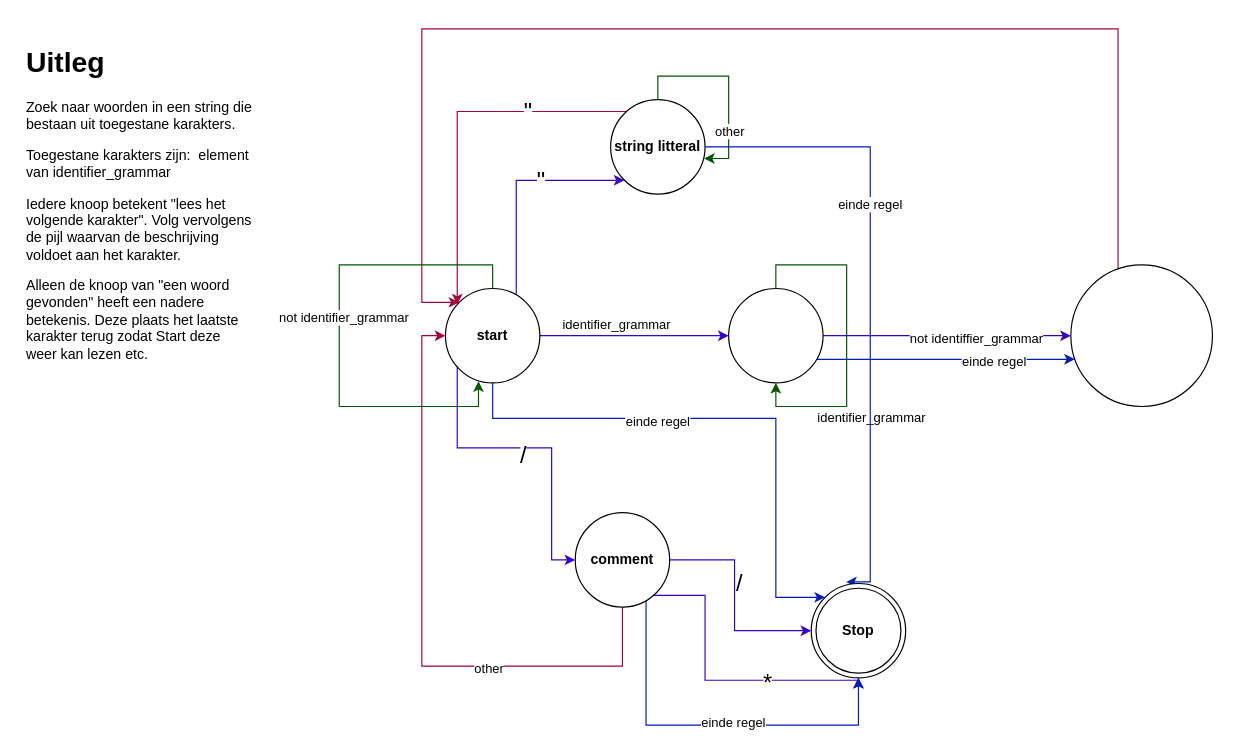
Image size: 1233x755. Some labels were removed from this diagram. The shapes that lost their labels are listed below. From the top down, each one's centre as x and y in pixels, then its label:
At [775,335]: "concat".
At [1141,335]: "woord gevonden plaats laatst gelezen char (of einde regel aanduiding) terug".
